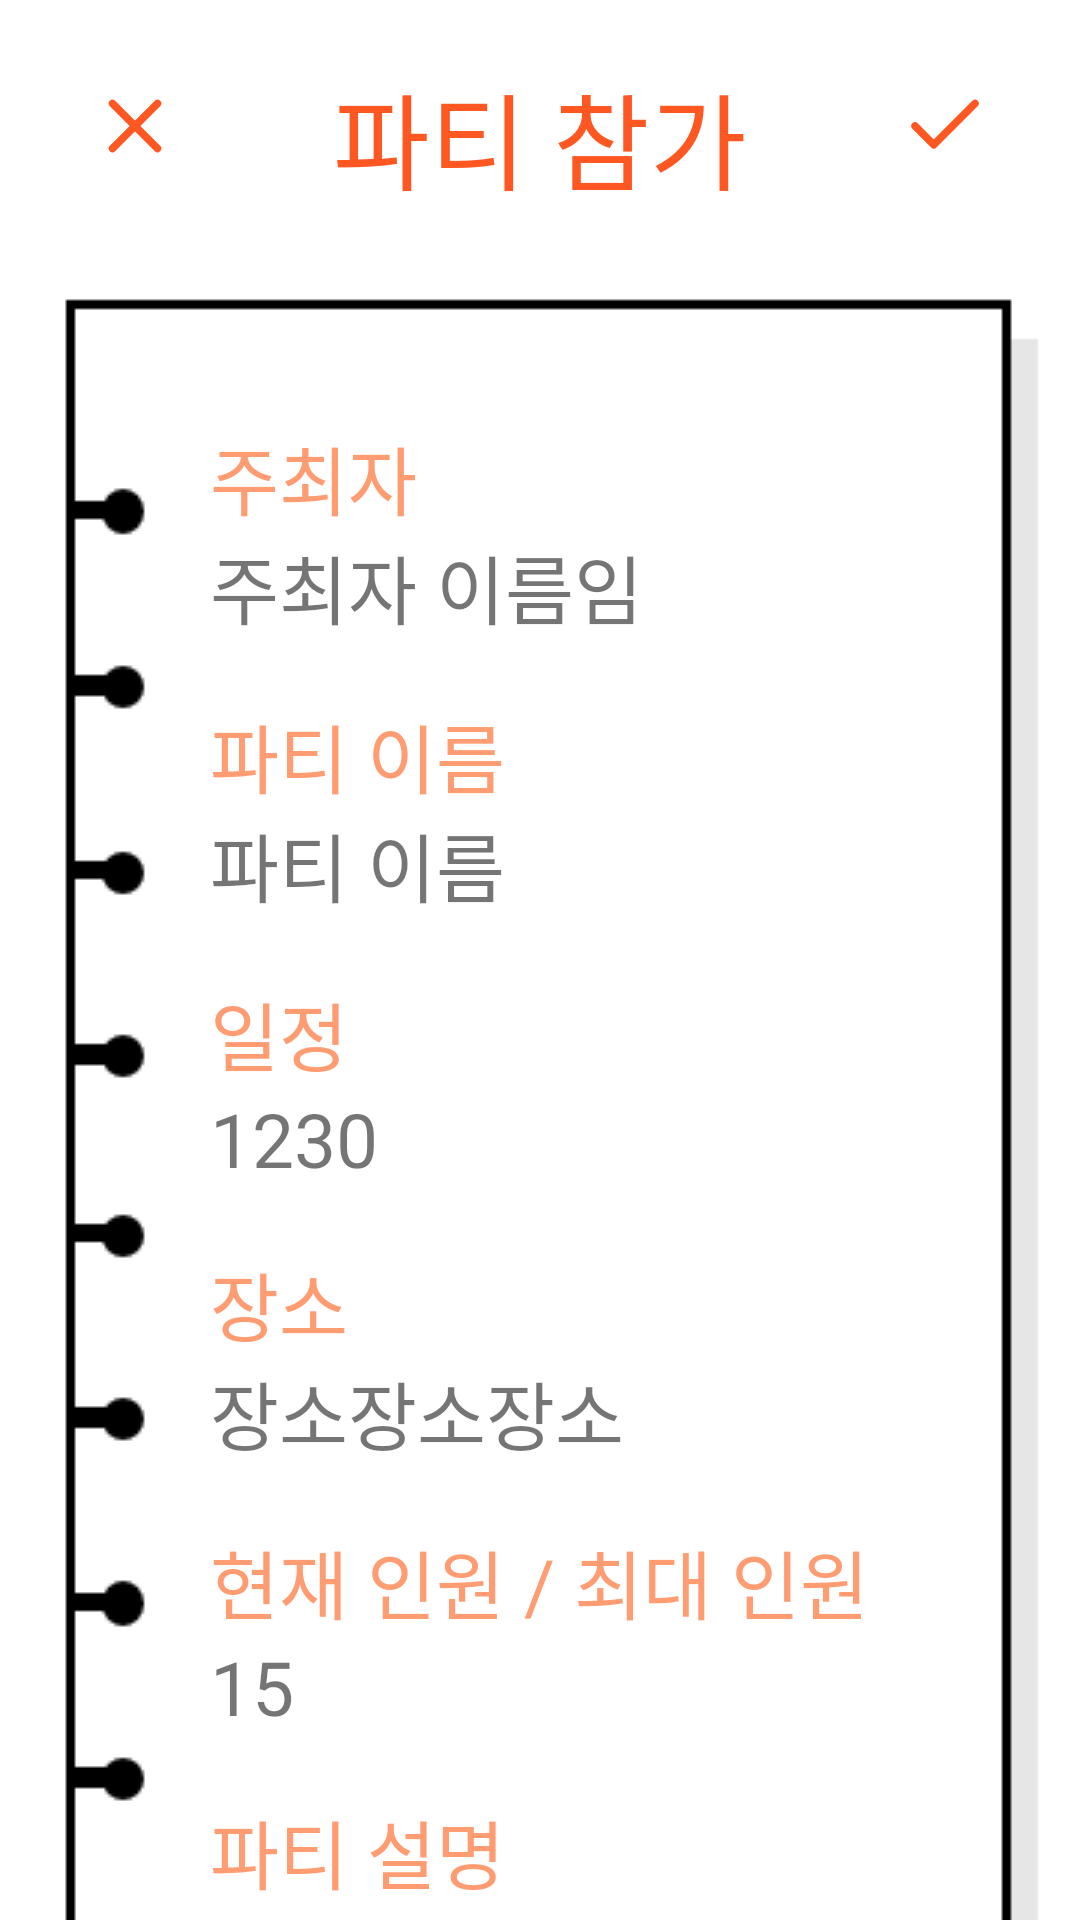

Where icons sit on this 1080w x 1920h app screen, as box=[x1, y1, x2, y2]:
check: box=[911, 99, 979, 149]
